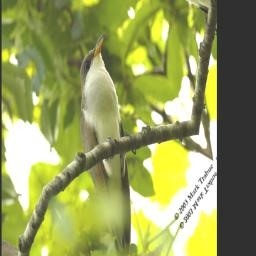Cuckoo: (38, 28, 188, 256)
